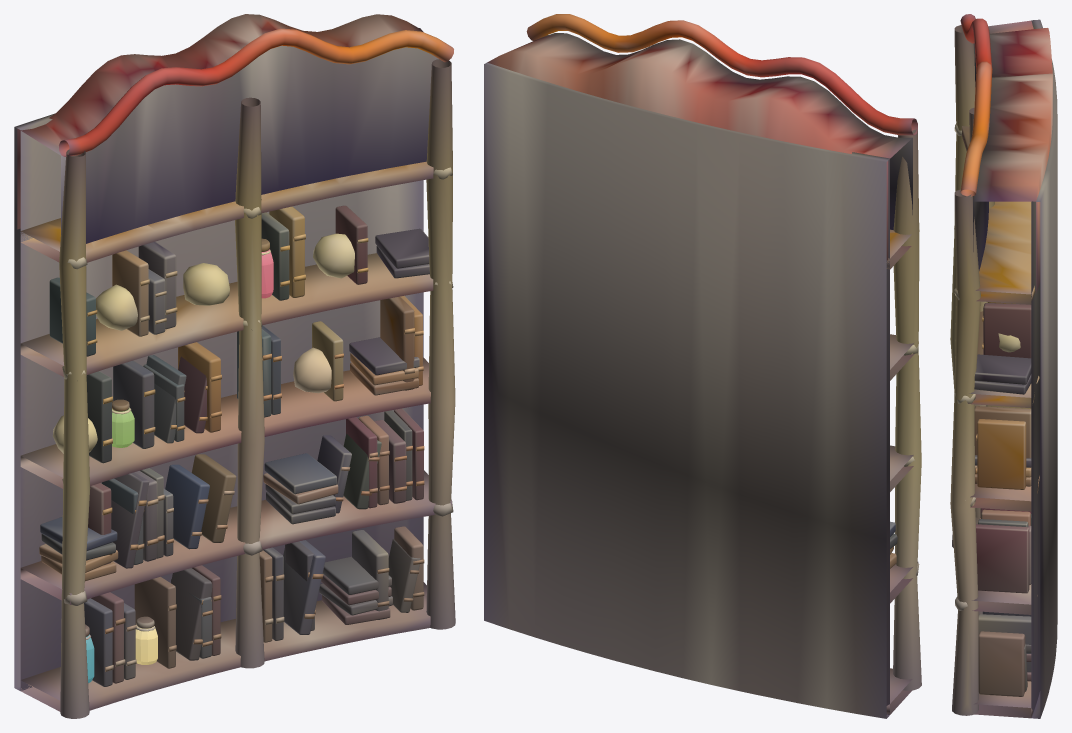
Rendered from kavisli_kitaplik.glb.
The picture shows the model from 3 angles, left to right: view 1: azimuth 30°, elevation 25°; view 2: azimuth 150°, elevation 25°; view 3: azimuth 270°, elevation 25°; orthographic projection. The views are drawn at different scales.
Visible parts, largest first — view 1: kavisli_kitaplik_LOD0; view 2: kavisli_kitaplik_LOD0; view 3: kavisli_kitaplik_LOD0.
Boxes of the visible parts, x1,y1,x2,y2 form: kavisli_kitaplik_LOD0: [14, 14, 455, 718]; kavisli_kitaplik_LOD0: [484, 14, 921, 718]; kavisli_kitaplik_LOD0: [950, 14, 1057, 718].
Size of what is drawn, in the model's own units: 1.89 by 2.78 by 0.469.
